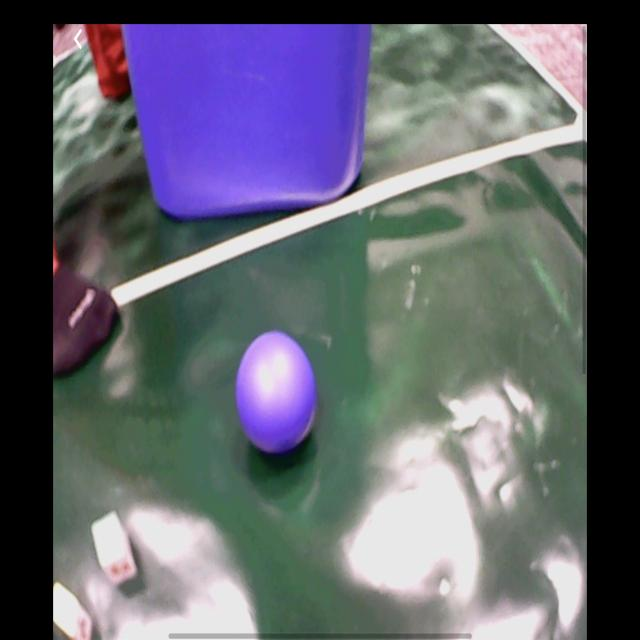ball: (237, 330, 317, 456)
